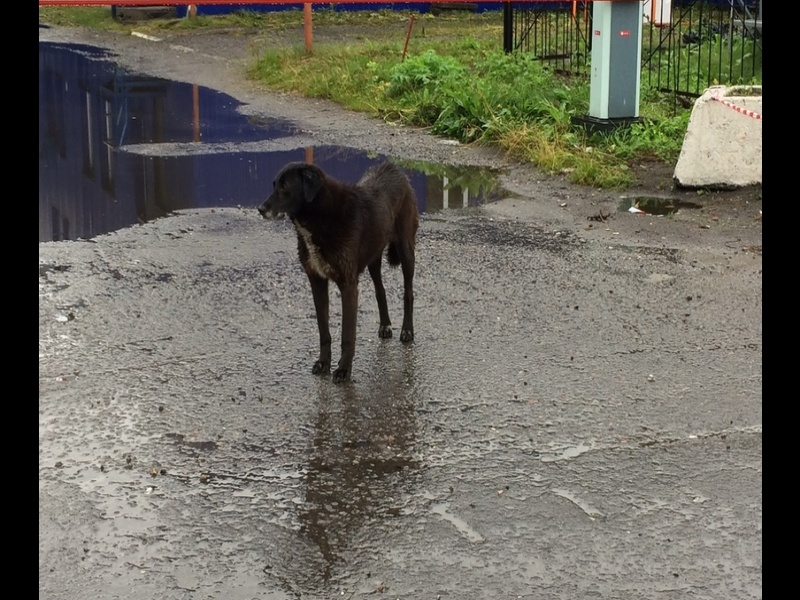dog: (261, 151, 422, 389)
